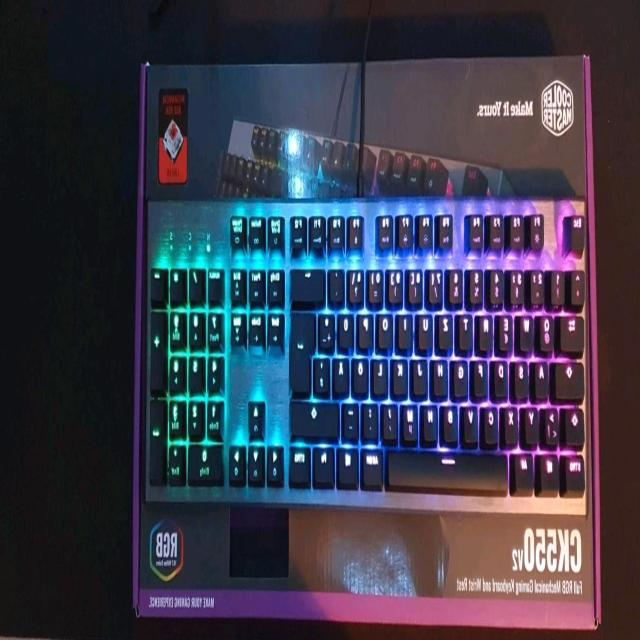0: (369, 264, 385, 302)
1: (552, 265, 566, 302)
2: (531, 265, 546, 303)
3: (511, 265, 526, 303)
4: (491, 264, 505, 302)
5: (470, 263, 485, 302)
6: (449, 263, 465, 301)
7: (429, 264, 445, 303)
8: (409, 264, 425, 303)
9: (389, 263, 405, 302)
a: (536, 355, 550, 396)
accent: (330, 264, 346, 301)
ae: (334, 352, 351, 393)
alt-left: (516, 448, 536, 489)
altgr-right: (363, 442, 385, 485)
b: (444, 399, 460, 440)
c: (484, 401, 500, 442)
caret: (572, 265, 586, 302)
comma: (383, 398, 399, 438)
d: (495, 355, 510, 396)
del: (292, 264, 326, 299)
e: (500, 309, 514, 348)
enter: (292, 305, 318, 391)
f: (475, 356, 489, 395)
g: (454, 355, 470, 396)
h: (434, 354, 450, 395)
hash: (315, 352, 331, 394)
i: (398, 309, 414, 347)
j: (413, 354, 429, 394)
k: (393, 353, 409, 395)
keyboard: (142, 198, 596, 515)
l: (373, 353, 389, 394)
less: (546, 402, 561, 442)
m: (403, 398, 420, 440)
minus: (344, 397, 360, 438)
n: (424, 399, 440, 440)
o: (379, 309, 395, 348)
oe: (353, 353, 370, 394)
p: (359, 309, 375, 347)
plus: (320, 307, 336, 348)
point: (363, 398, 379, 437)
q: (541, 310, 557, 350)
r: (479, 310, 495, 349)
s: (515, 355, 530, 396)
shift-left: (566, 404, 586, 443)
shift-lock: (556, 357, 586, 398)
shift-right: (292, 397, 341, 436)
space: (388, 447, 510, 488)
ss: (350, 264, 366, 302)
strg-left: (566, 449, 587, 491)
strg-right: (290, 441, 313, 482)
t: (460, 309, 474, 348)
tab: (562, 310, 586, 350)
u: (419, 308, 435, 349)
ue: (339, 308, 355, 349)
v: (464, 401, 480, 440)
w: (520, 310, 536, 349)
x: (505, 401, 520, 442)
y: (526, 402, 540, 441)
z: (439, 309, 454, 347)
